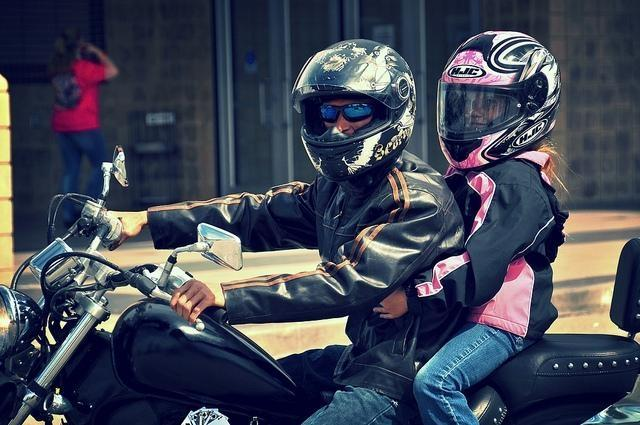motorcycle: (0, 141, 639, 420)
